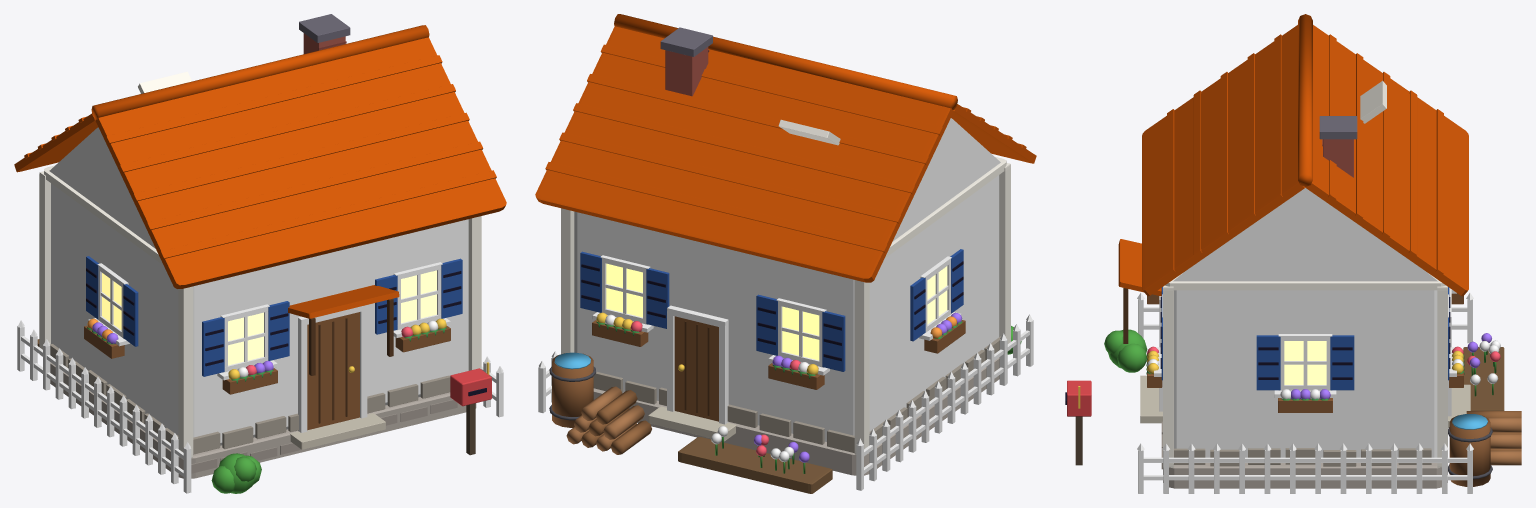
File: domek5.glb
3 renders of one model, left to right at view 1: azimuth 30°, elevation 25°; view 2: azimuth 150°, elevation 25°; view 3: azimuth 270°, elevation 25°, orthographic. The views are drawn at different scales.
Parts seen in each view (by area): view 1: domek5; view 2: domek5; view 3: domek5.
Part boxes in pixels (x1,y1,x2,y2): domek5: (14,14,506,493); domek5: (535,14,1036,493); domek5: (1065,14,1521,493).
Bounding box in the file's own units: 5.54 × 5.43 × 6.65.
Materials: 2 (2 with a texture image).
